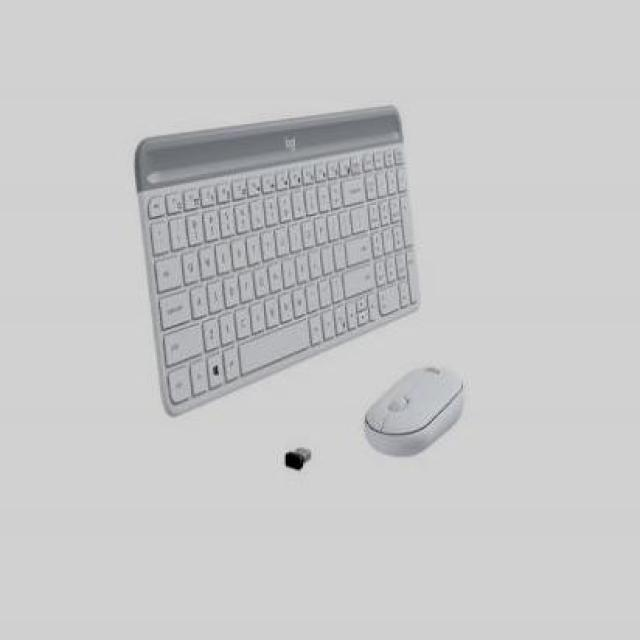keyboard: (131, 101, 423, 418)
